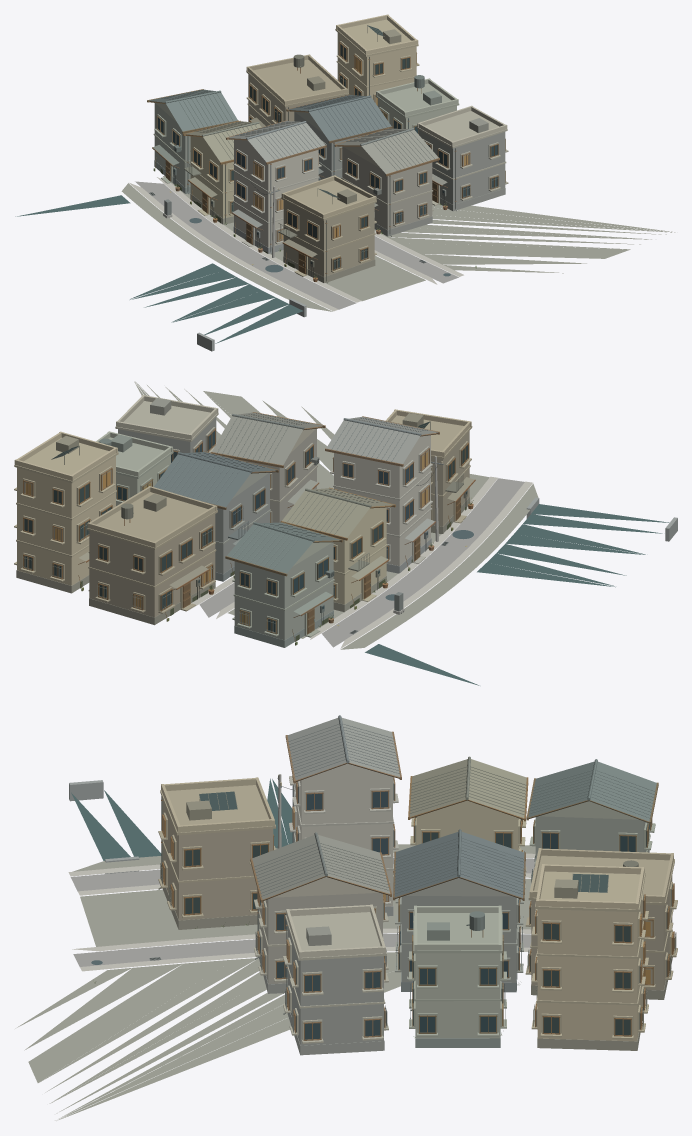
File: street_8_5.glb
3 views of the same model, one above another, from view 1: azimuth 30°, elevation 25°; view 2: azimuth 150°, elevation 25°; view 3: azimuth 270°, elevation 25° (orthographic). The views are drawn at different scales.
Parts seen in each view (by area): view 1: ground.009, plaster.048, trim.048, concrete.037, roof_metal.048, graybrick.048, roof_tile.033, wood.048, water.010, road.045, metal.048, paving.035 (+1 smaller); view 2: plaster.048, trim.048, concrete.037, roof_metal.048, roof_tile.033, wood.048, water.010, ground.009, road.045, metal.048, graybrick.048, glass.048 (+3 smaller); view 3: plaster.048, ground.009, trim.048, concrete.037, roof_metal.048, graybrick.048, roof_tile.033, wood.048, glass.048, metal.048, road.045, water.010 (+1 smaller).
Part boxes in pixels (x1,y1,x2,y2): ground.009: [121, 176, 675, 311]; plaster.048: [155, 14, 507, 247]; trim.048: [153, 19, 508, 276]; concrete.037: [154, 74, 432, 276]; roof_metal.048: [153, 29, 488, 257]; graybrick.048: [154, 130, 505, 351]; roof_tile.033: [149, 89, 414, 145]; wood.048: [147, 42, 505, 274]; water.010: [15, 195, 302, 343]; road.045: [135, 181, 458, 309]; metal.048: [149, 25, 499, 283]; paving.035: [129, 177, 463, 311]; plaster.048: [14, 395, 471, 604]; trim.048: [14, 401, 472, 637]; concrete.037: [89, 428, 469, 640]; roof_metal.048: [56, 398, 474, 614]; roof_tile.033: [154, 413, 421, 573]; wood.048: [23, 412, 468, 641]; water.010: [365, 504, 669, 685]; ground.009: [134, 381, 538, 649]; road.045: [199, 478, 524, 647]; metal.048: [22, 413, 467, 634]; graybrick.048: [16, 417, 677, 647]; glass.048: [24, 422, 467, 632]; plaster.048: [161, 763, 673, 1041]; ground.009: [15, 844, 535, 1120]; trim.048: [158, 776, 677, 1043]; concrete.037: [163, 774, 672, 990]; roof_metal.048: [186, 718, 578, 945]; graybrick.048: [69, 780, 672, 1055]; roof_tile.033: [314, 715, 656, 897]; wood.048: [162, 731, 674, 1040]; glass.048: [163, 779, 672, 1039]; metal.048: [149, 723, 676, 1032]; road.045: [70, 858, 534, 966]; water.010: [71, 778, 294, 860].
Bounding box in the file's own units: 50.9 × 11.91 × 40.81.
